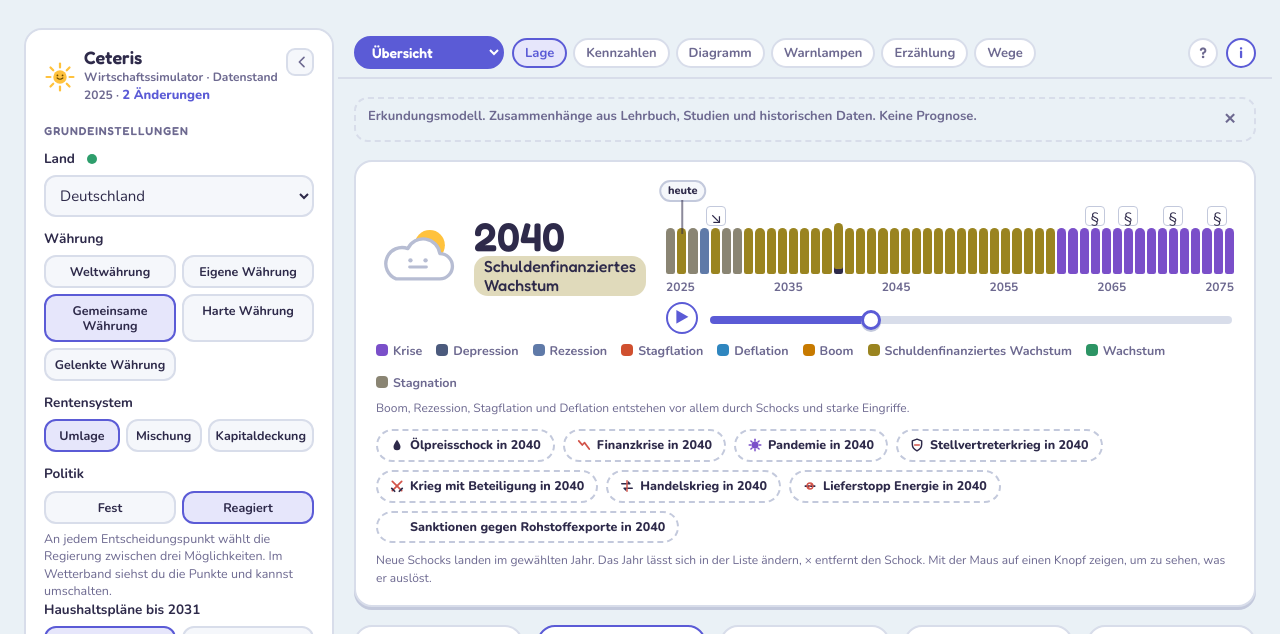
13.13 Entscheidungspunkte zum Umschalten › nicht mögliche Option ist ausgegraut und nennt den Grund
Step 1. Click the button "↘" → (716, 216), box [706,206,726,226]
(page scrolled)
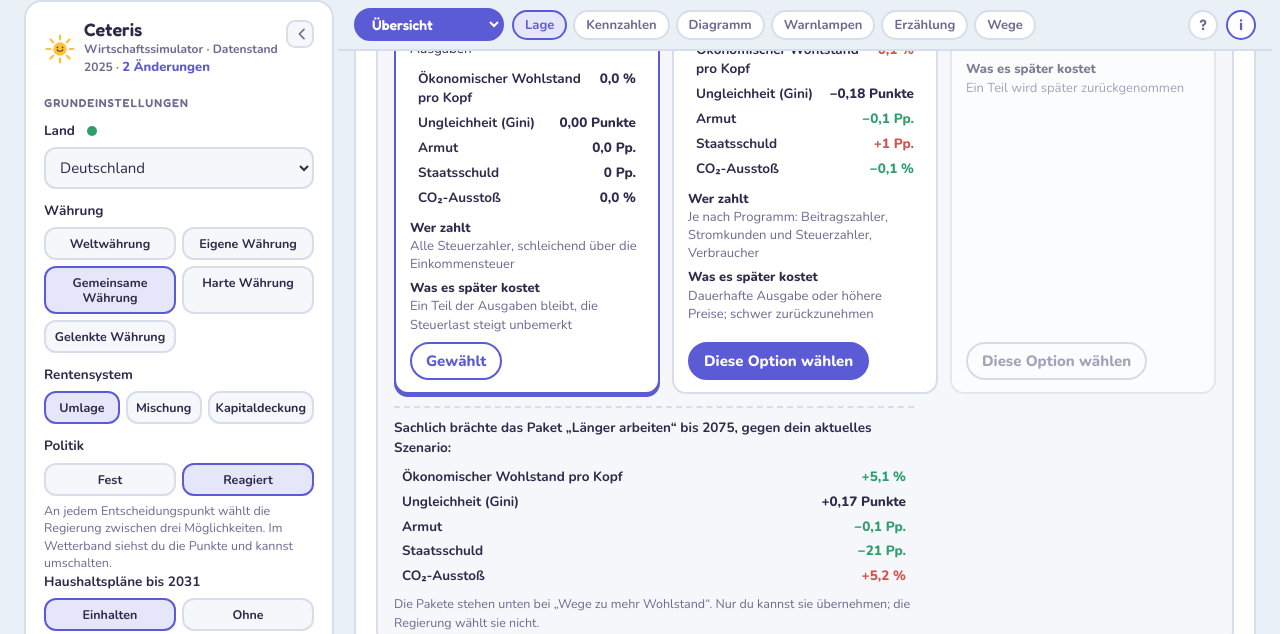
Expected: the button "Diese Option wählen" below "Ein Teil wird später zurückgenommen" is disabled, [966,342,1147,380]
